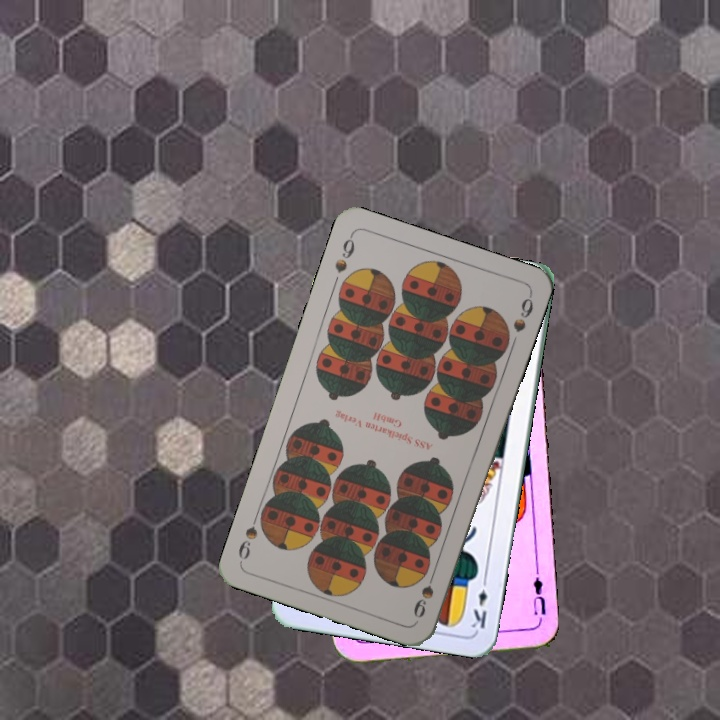EK: (467, 573, 490, 631)
EU: (528, 567, 548, 627)
S9: (409, 565, 439, 621), (330, 230, 358, 276)
